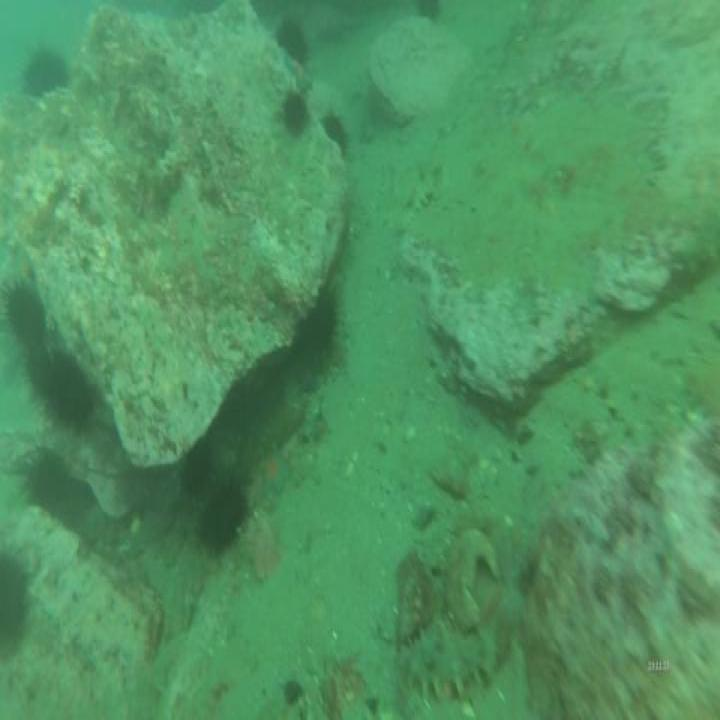echinus: (18, 441, 93, 531), (190, 473, 256, 567), (37, 343, 100, 434), (296, 275, 348, 377), (0, 544, 38, 660), (0, 270, 50, 358), (16, 41, 73, 105), (275, 78, 313, 142), (273, 14, 311, 73), (321, 100, 354, 160)
holothurian: (396, 614, 508, 710)
